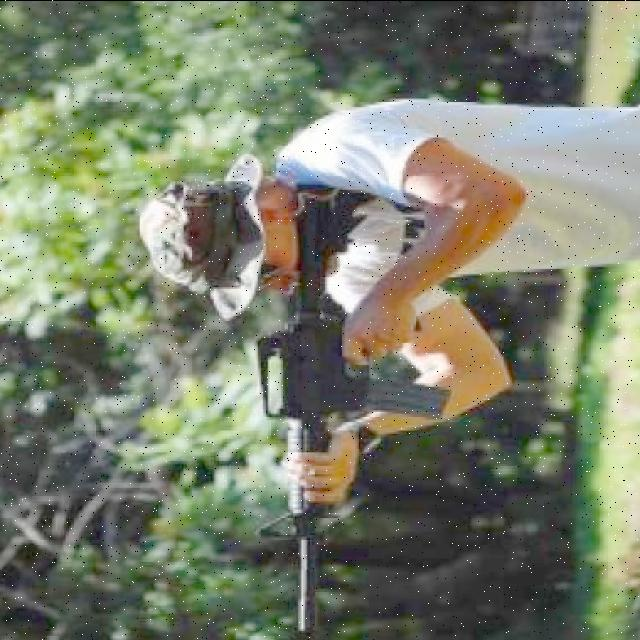Rifle: (256, 184, 453, 630)
